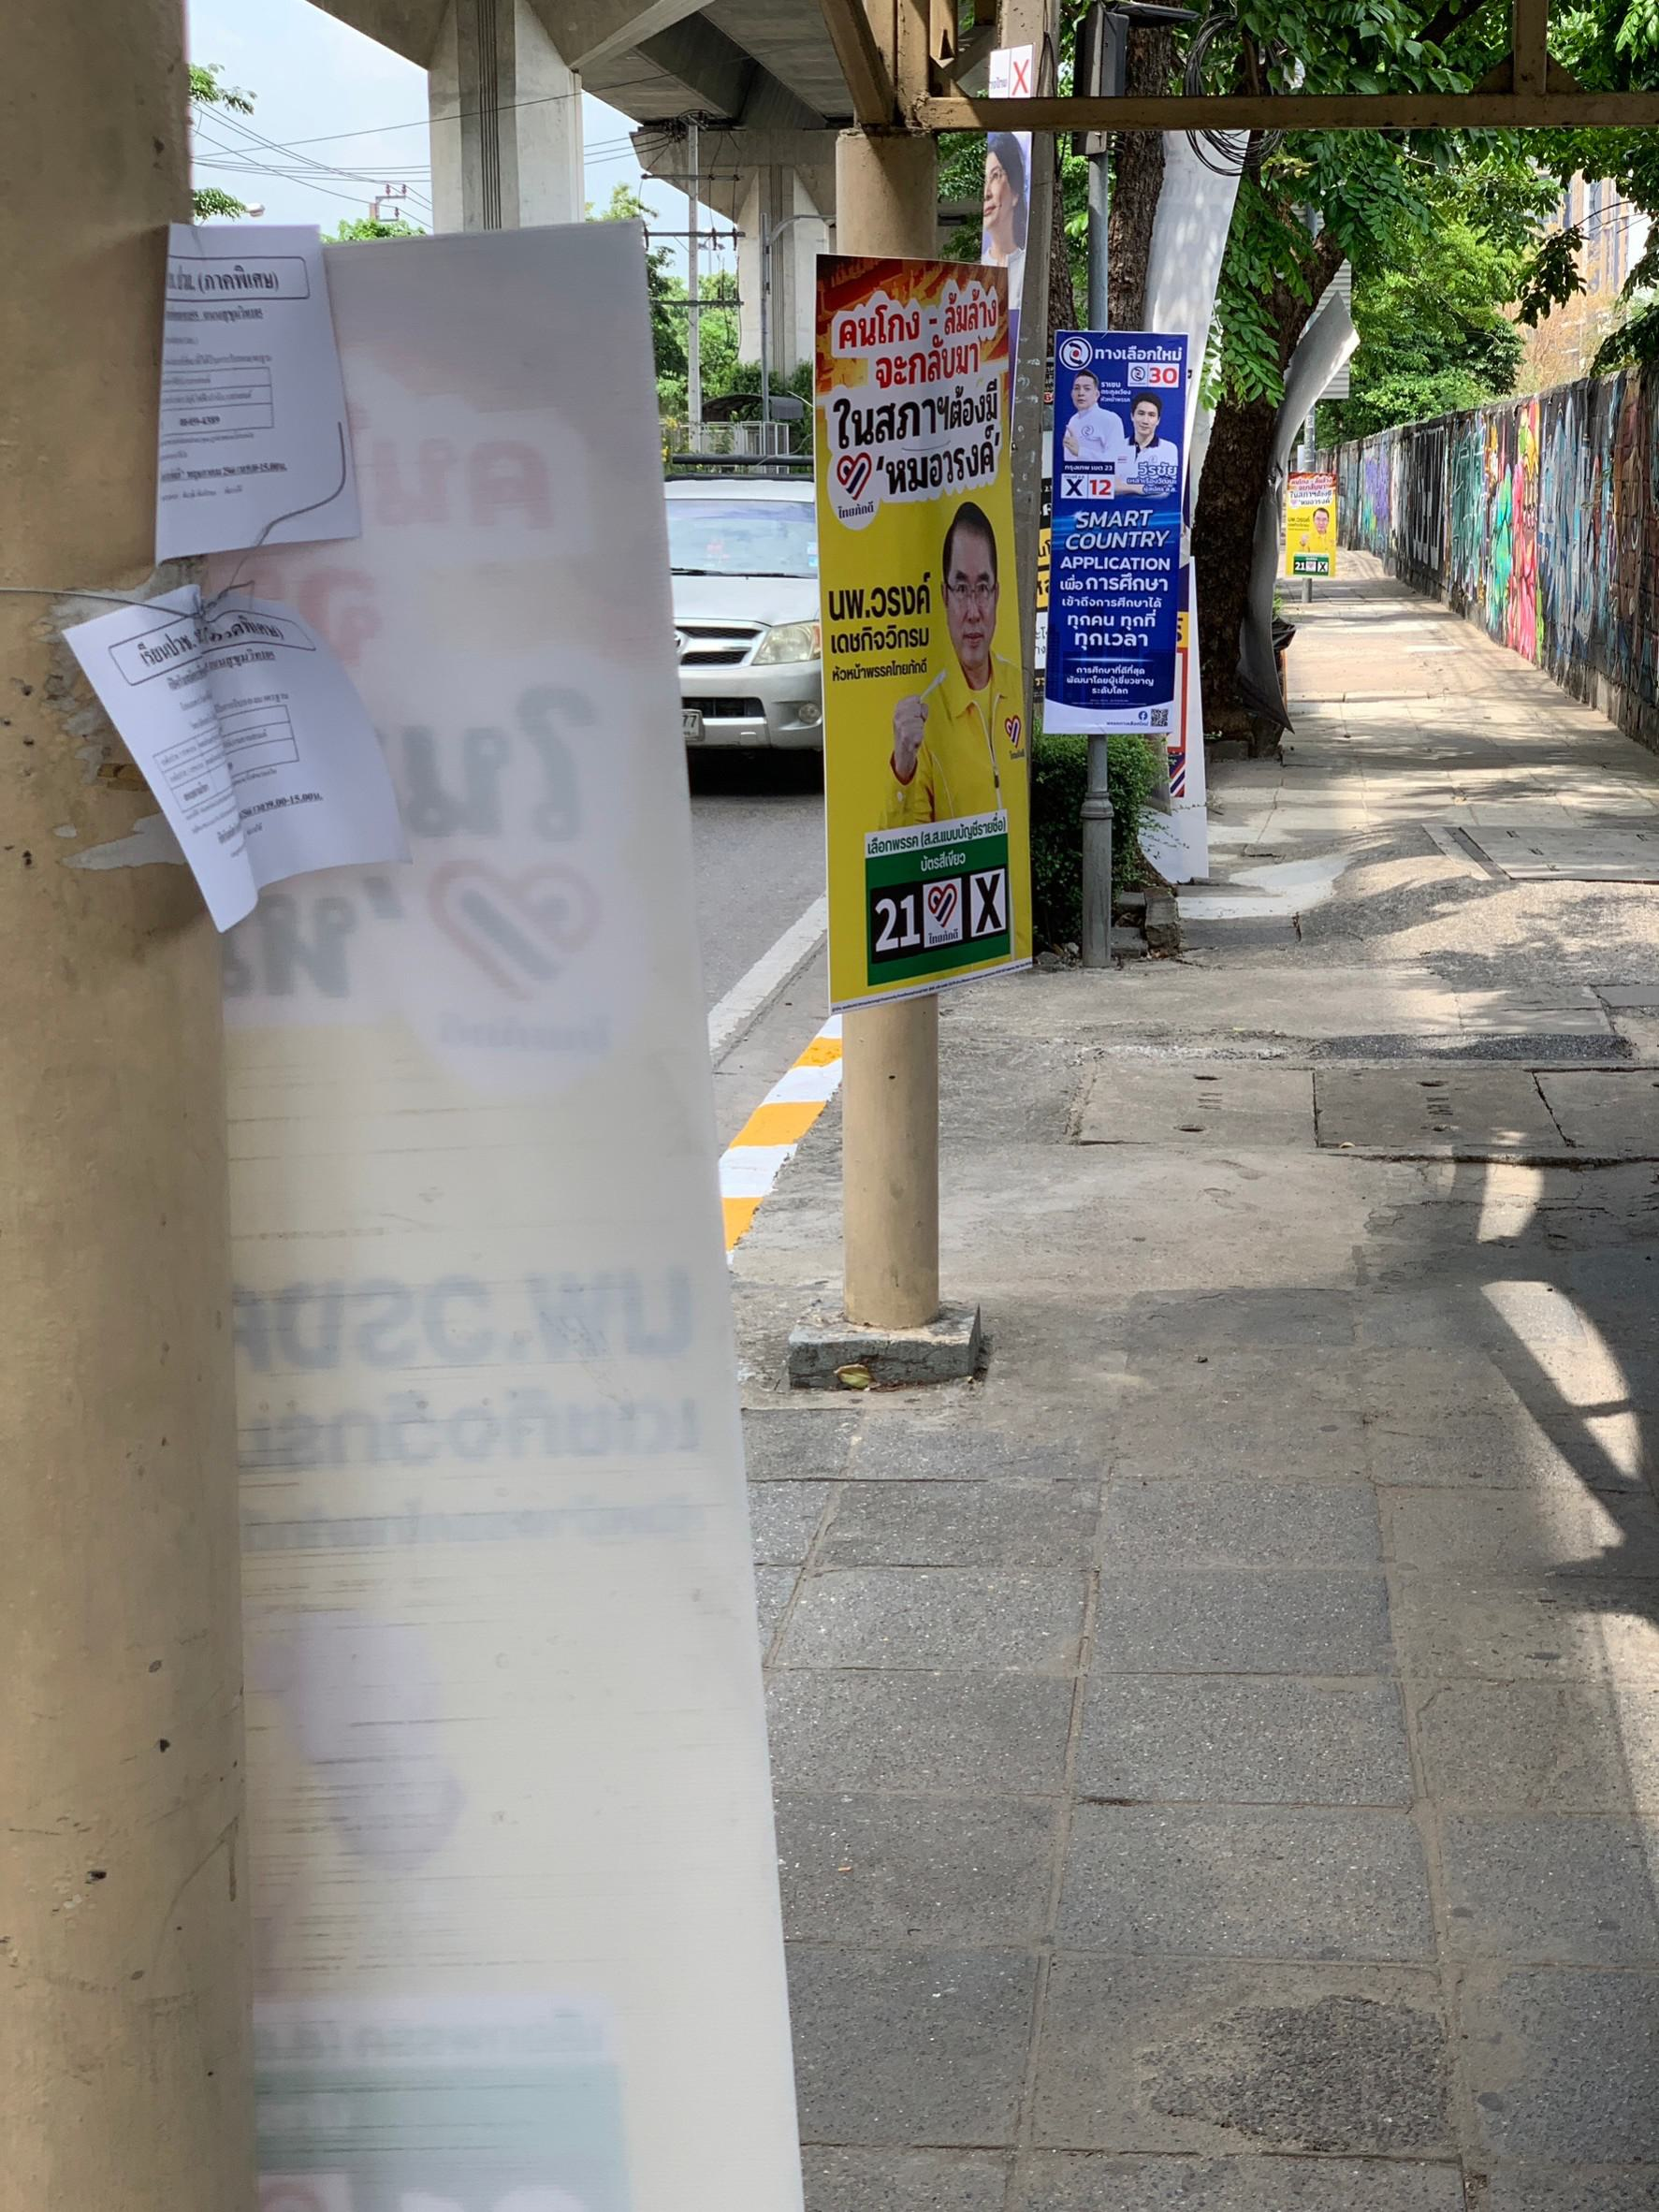Banner: (802, 240, 1047, 1012), (1044, 314, 1211, 752)
